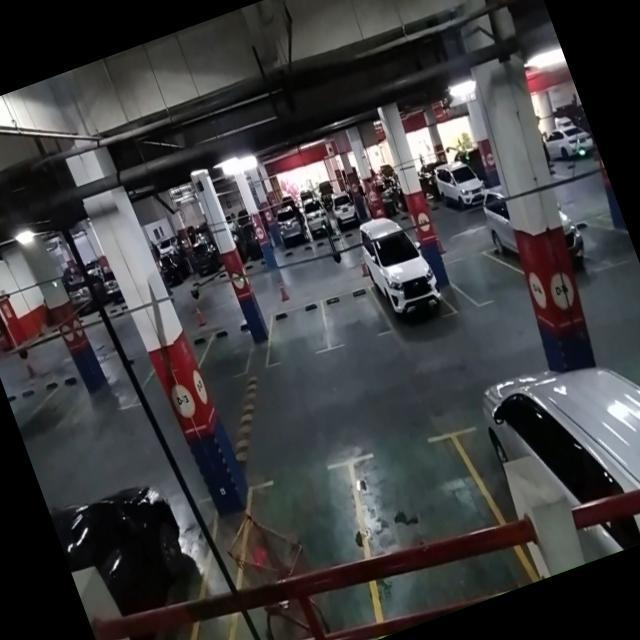empty: (336, 418, 498, 564), (442, 238, 528, 316), (254, 296, 335, 372), (316, 277, 389, 351), (194, 318, 262, 388)
occupied: (362, 234, 457, 337)
